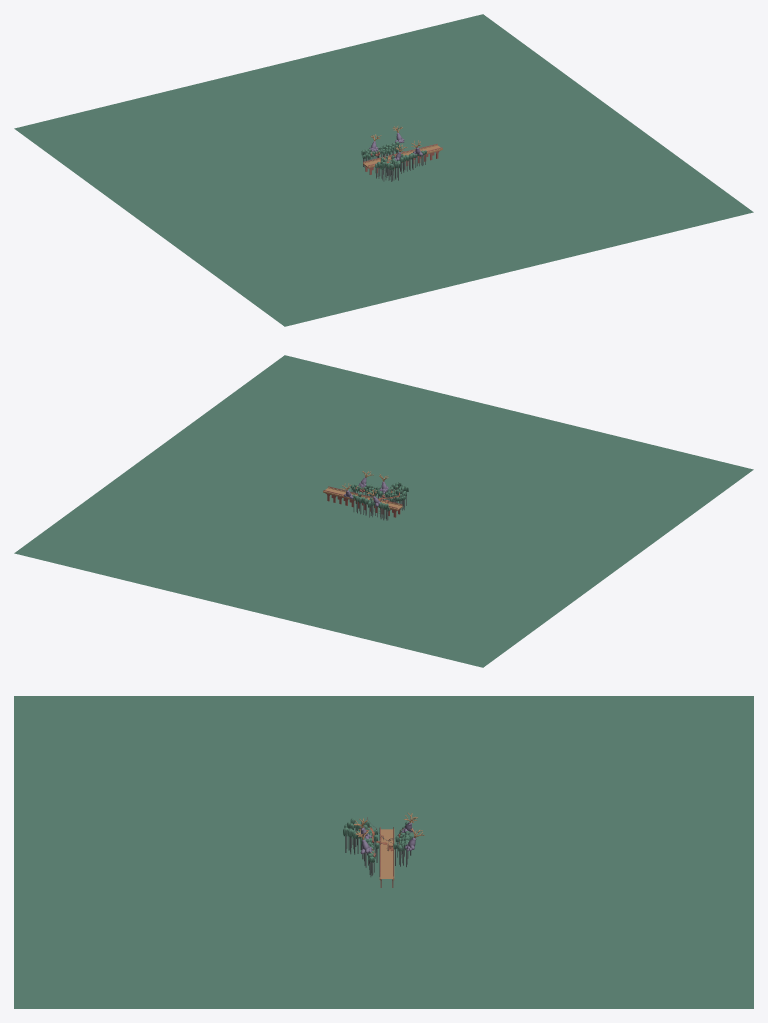
File: New Environment Bungie.fbx
3 views of the same model, one above another, from view 1: azimuth 30°, elevation 25°; view 2: azimuth 150°, elevation 25°; view 3: azimuth 270°, elevation 25° (orthographic). The views are drawn at different scales.
Visible parts, largest first — view 1: bridge path; view 2: bridge path; view 3: bridge path.
Boxes of the visible parts, x1,y1,x2,y2 form: bridge path: [14, 14, 753, 326]; bridge path: [14, 355, 753, 667]; bridge path: [14, 696, 753, 1008].
Size of what is drawn, in the model's own units: 235992 by 20383 by 235992.
